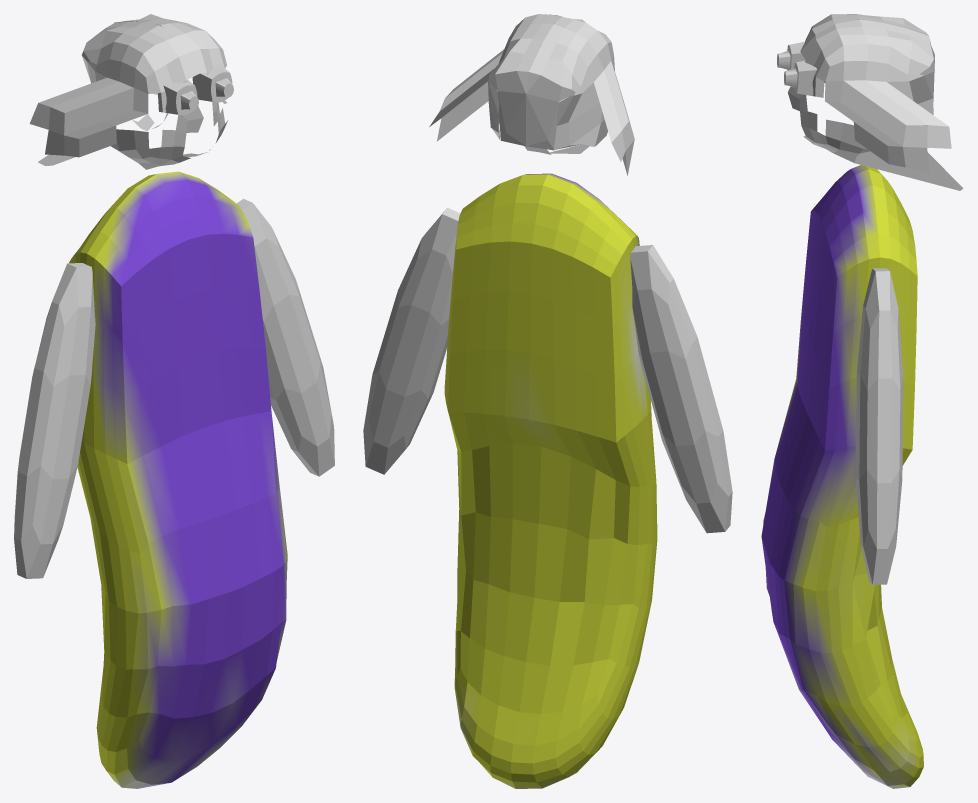
File: character_a.glb
3 views of the same model, side by side, from view 1: azimuth 30°, elevation 25°; view 2: azimuth 150°, elevation 25°; view 3: azimuth 270°, elevation 25° (orthographic). The views are drawn at different scales.
Visible parts, largest first — view 1: Cube.001, Cube.002, Cube; view 2: Cube.001, Cube.002, Cube; view 3: Cube.001, Cube, Cube.002.
Boxes of the visible parts, x1=… form: Cube.001: x1=69, y1=171, x2=287, y2=788; Cube.002: x1=14, y1=199, x2=334, y2=578; Cube: x1=29, y1=14, x2=233, y2=169; Cube.001: x1=444, y1=173, x2=657, y2=788; Cube.002: x1=363, y1=208, x2=732, y2=533; Cube: x1=429, y1=14, x2=634, y2=175; Cube.001: x1=761, y1=165, x2=923, y2=788; Cube: x1=777, y1=14, x2=963, y2=190; Cube.002: x1=856, y1=268, x2=903, y2=584.
Bounding box in the file's own units: 5.33 × 11.38 × 2.75.
